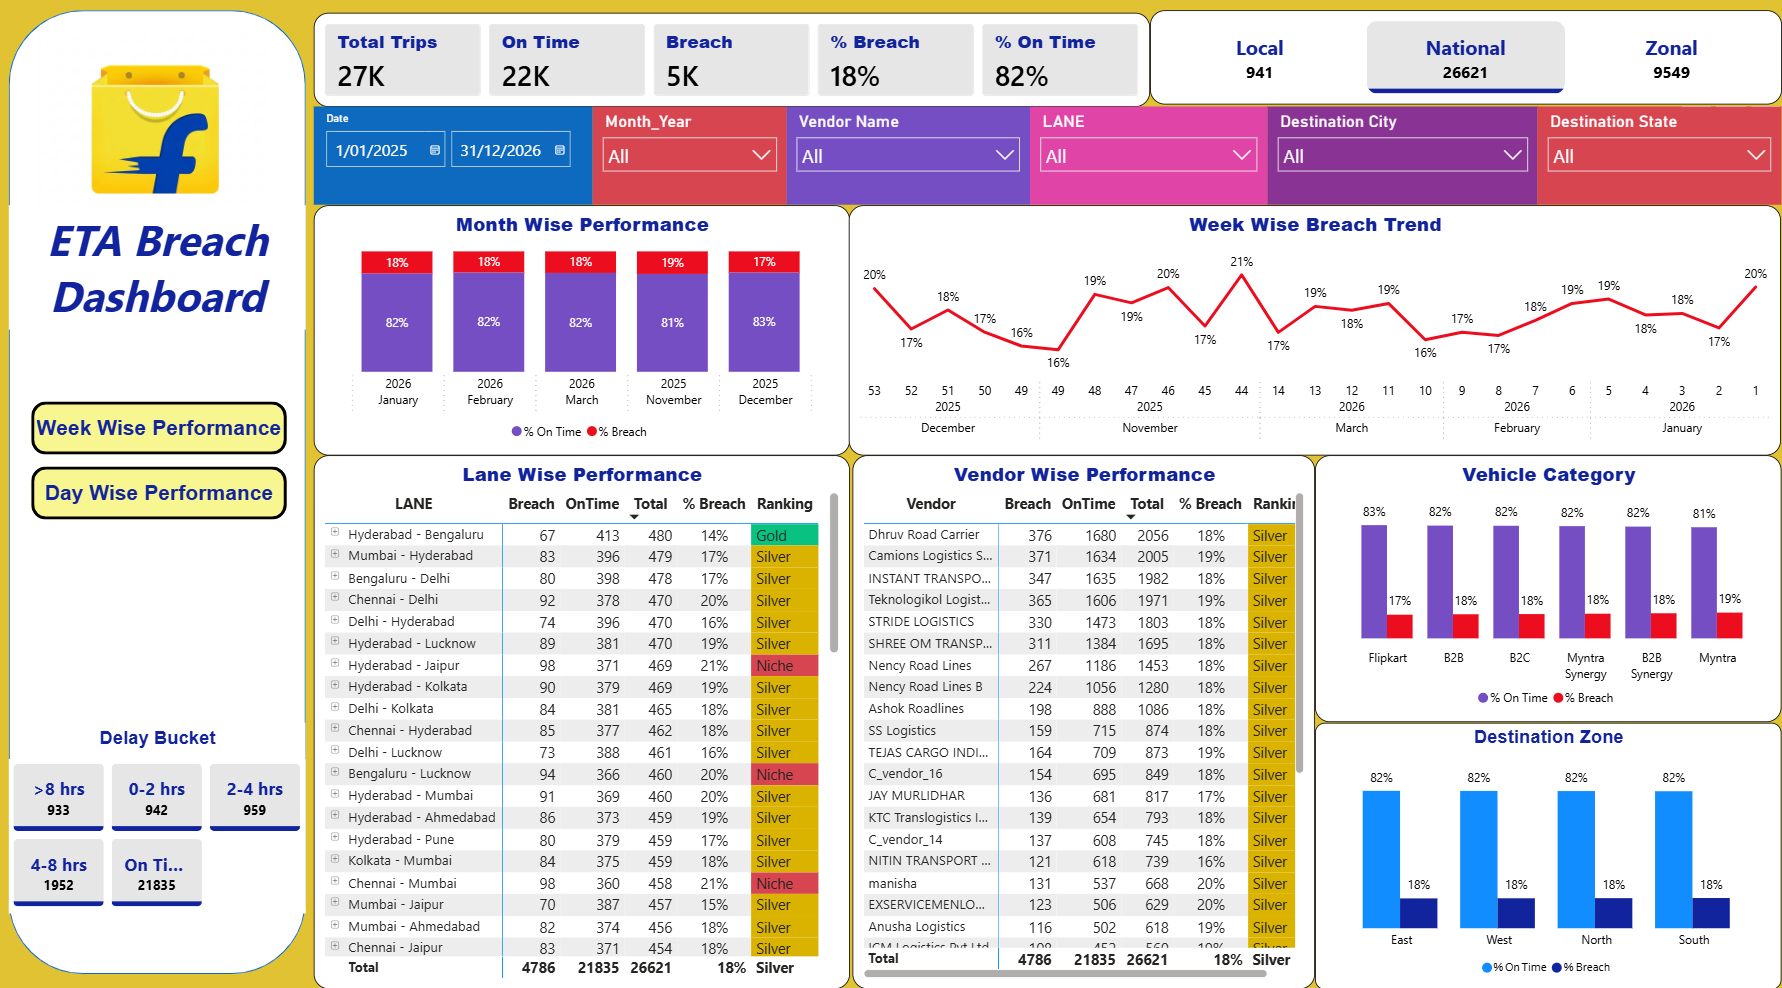

The page's visual inventory and layout, read from the dashboard file:
{"tool":"powerbi","page":{"name":"ETA Breach ","canvas":[1800,1000],"ordinal":0},"visuals":[{"type":"cardVisual","fields":{"Data":["All Measures.Total Trips","All Measures.OnTime Count","All Measures.Breach count","All Measures.% Breach","All Measures.% On Time"]},"box":[316.7,13.4,844.5,95.5],"z":0},{"type":"pivotTable","title":"Vendor Wise Performance","fields":{"Values":["All Measures.Breach count","All Measures.OnTime Count","CountNonNull(ETA Raw Data.Trip ID)","All Measures.% Breach","All Measures.Ranking"],"Rows":["ETA Raw Data.Vendor "]},"box":[861.3,460.8,467.5,539.5],"z":1000},{"type":"pivotTable","title":"Lane Wise Performance","fields":{"Values":["All Measures.Breach count","All Measures.OnTime Count","CountNonNull(ETA Raw Data.Trip ID)","All Measures.% Breach","All Measures.Ranking"],"Rows":["ETA Raw Data.lane -1","ETA Raw Data.Vendor "]},"box":[316.7,460.8,541.2,539.5],"z":2000},{"type":"columnChart","title":"Month Wise Performance","fields":{"Category":["Calendar.Date.Variation.Date Hierarchy.Month","Calendar.Date.Variation.Date Hierarchy.Year"],"Y":["All Measures.% On Time","All Measures.% Breach"]},"box":[316.7,207.8,541.2,253],"z":3000},{"type":"shape","box":[8.4,11.7,299.9,973.5],"z":4000},{"type":"image","box":[0,28.5,313.3,237.9],"z":5000},{"type":"actionButton","box":[31.8,407.2,258,53.6],"z":6000},{"type":"textbox","box":[8.4,207.8,299.9,125.7],"z":7000},{"type":"advancedSlicerVisual","title":"Zone Performance","fields":{"Label":["CountNonNull(ETA Raw Data.Trip ID)"],"Values":["ETA Raw Data.LZN"]},"box":[1161.2,11.7,638.4,95.5],"z":8000},{"type":"advancedSlicerVisual","title":"Zone Performance","fields":{"Label":["CountNonNull(ETA Raw Data.Trip ID)"],"Values":["ETA Raw Data.Delay Bucket"]},"box":[8.4,767.4,299.9,155.8],"z":9000},{"type":"slicer","title":"Zone Performance","fields":{"Values":["ETA Raw Data.Vendor Name"]},"box":[794.2,108.9,246.3,98.9],"z":10000},{"type":"slicer","title":"Zone Performance","fields":{"Values":["ETA Raw Data.lane -1"]},"box":[1040.6,108.9,239.6,98.9],"z":11000},{"type":"slicer","title":"Zone Performance","fields":{"Values":["ETA Raw Data.Destination"]},"box":[1280.2,108.9,273.1,98.9],"z":12000},{"type":"slicer","title":"Zone Performance","fields":{"Values":["ETA Raw Data.Month_Year"]},"box":[598.2,108.9,196,98.9],"z":13000},{"type":"lineChart","title":"Week Wise Breach Trend","fields":{"Category":["Calendar.Date.Variation.Date Hierarchy.Month","Calendar.Date.Variation.Date Hierarchy.Year","ETA Raw Data.Week Number"],"Y":["All Measures.% Breach"]},"box":[857.9,207.8,941.7,253],"z":14000},{"type":"clusteredColumnChart","title":"Destination Zone","fields":{"Category":["ETA Raw Data.Destination Zone"],"Y":["All Measures.% On Time","All Measures.% Breach"]},"box":[1328.8,730.6,470.8,269.8],"z":15000},{"type":"slicer","title":"Zone Performance","fields":{"Values":["Calendar.Date"]},"box":[316.7,108.9,281.5,98.9],"z":16000},{"type":"slicer","title":"Zone Performance","fields":{"Values":["ETA Raw Data.Destination State"]},"box":[1553.3,108.9,246.3,98.9],"z":17000},{"type":"clusteredColumnChart","title":"Vehicle Category","fields":{"Category":["ETA Raw Data.Vehicle Category"],"Y":["All Measures.% On Time","All Measures.% Breach"]},"box":[1328.8,460.8,470.8,269.8],"z":18000},{"type":"textbox","box":[10.1,730.6,298.3,36.9],"z":19000},{"type":"actionButton","box":[31.8,472.5,258,53.6],"z":20000}]}

Visuals, with their boxes in screenshot pixels (x1, y1, x2, y2), scaled from the page's 1800x1000 canvas onto the 1782x988 screenshot:
cardVisual - All Measures.Total Trips x All Measures.OnTime Count: pyautogui.locateOnScreen(314, 13, 1150, 108)
"Vendor Wise Performance" pivotTable: pyautogui.locateOnScreen(853, 455, 1316, 987)
"Lane Wise Performance" pivotTable: pyautogui.locateOnScreen(314, 455, 849, 987)
"Month Wise Performance" columnChart: pyautogui.locateOnScreen(314, 205, 849, 455)
shape: pyautogui.locateOnScreen(8, 12, 305, 973)
image: pyautogui.locateOnScreen(0, 28, 310, 263)
actionButton: pyautogui.locateOnScreen(31, 402, 287, 455)
textbox: pyautogui.locateOnScreen(8, 205, 305, 329)
"Zone Performance" advancedSlicerVisual: pyautogui.locateOnScreen(1150, 12, 1781, 106)
"Zone Performance" advancedSlicerVisual: pyautogui.locateOnScreen(8, 758, 305, 912)
"Zone Performance" slicer: pyautogui.locateOnScreen(786, 108, 1030, 205)
"Zone Performance" slicer: pyautogui.locateOnScreen(1030, 108, 1267, 205)
"Zone Performance" slicer: pyautogui.locateOnScreen(1267, 108, 1538, 205)
"Zone Performance" slicer: pyautogui.locateOnScreen(592, 108, 786, 205)
"Week Wise Breach Trend" lineChart: pyautogui.locateOnScreen(849, 205, 1781, 455)
"Destination Zone" clusteredColumnChart: pyautogui.locateOnScreen(1316, 722, 1781, 987)
"Zone Performance" slicer: pyautogui.locateOnScreen(314, 108, 592, 205)
"Zone Performance" slicer: pyautogui.locateOnScreen(1538, 108, 1781, 205)
"Vehicle Category" clusteredColumnChart: pyautogui.locateOnScreen(1316, 455, 1781, 722)
textbox: pyautogui.locateOnScreen(10, 722, 305, 758)
actionButton: pyautogui.locateOnScreen(31, 467, 287, 520)
